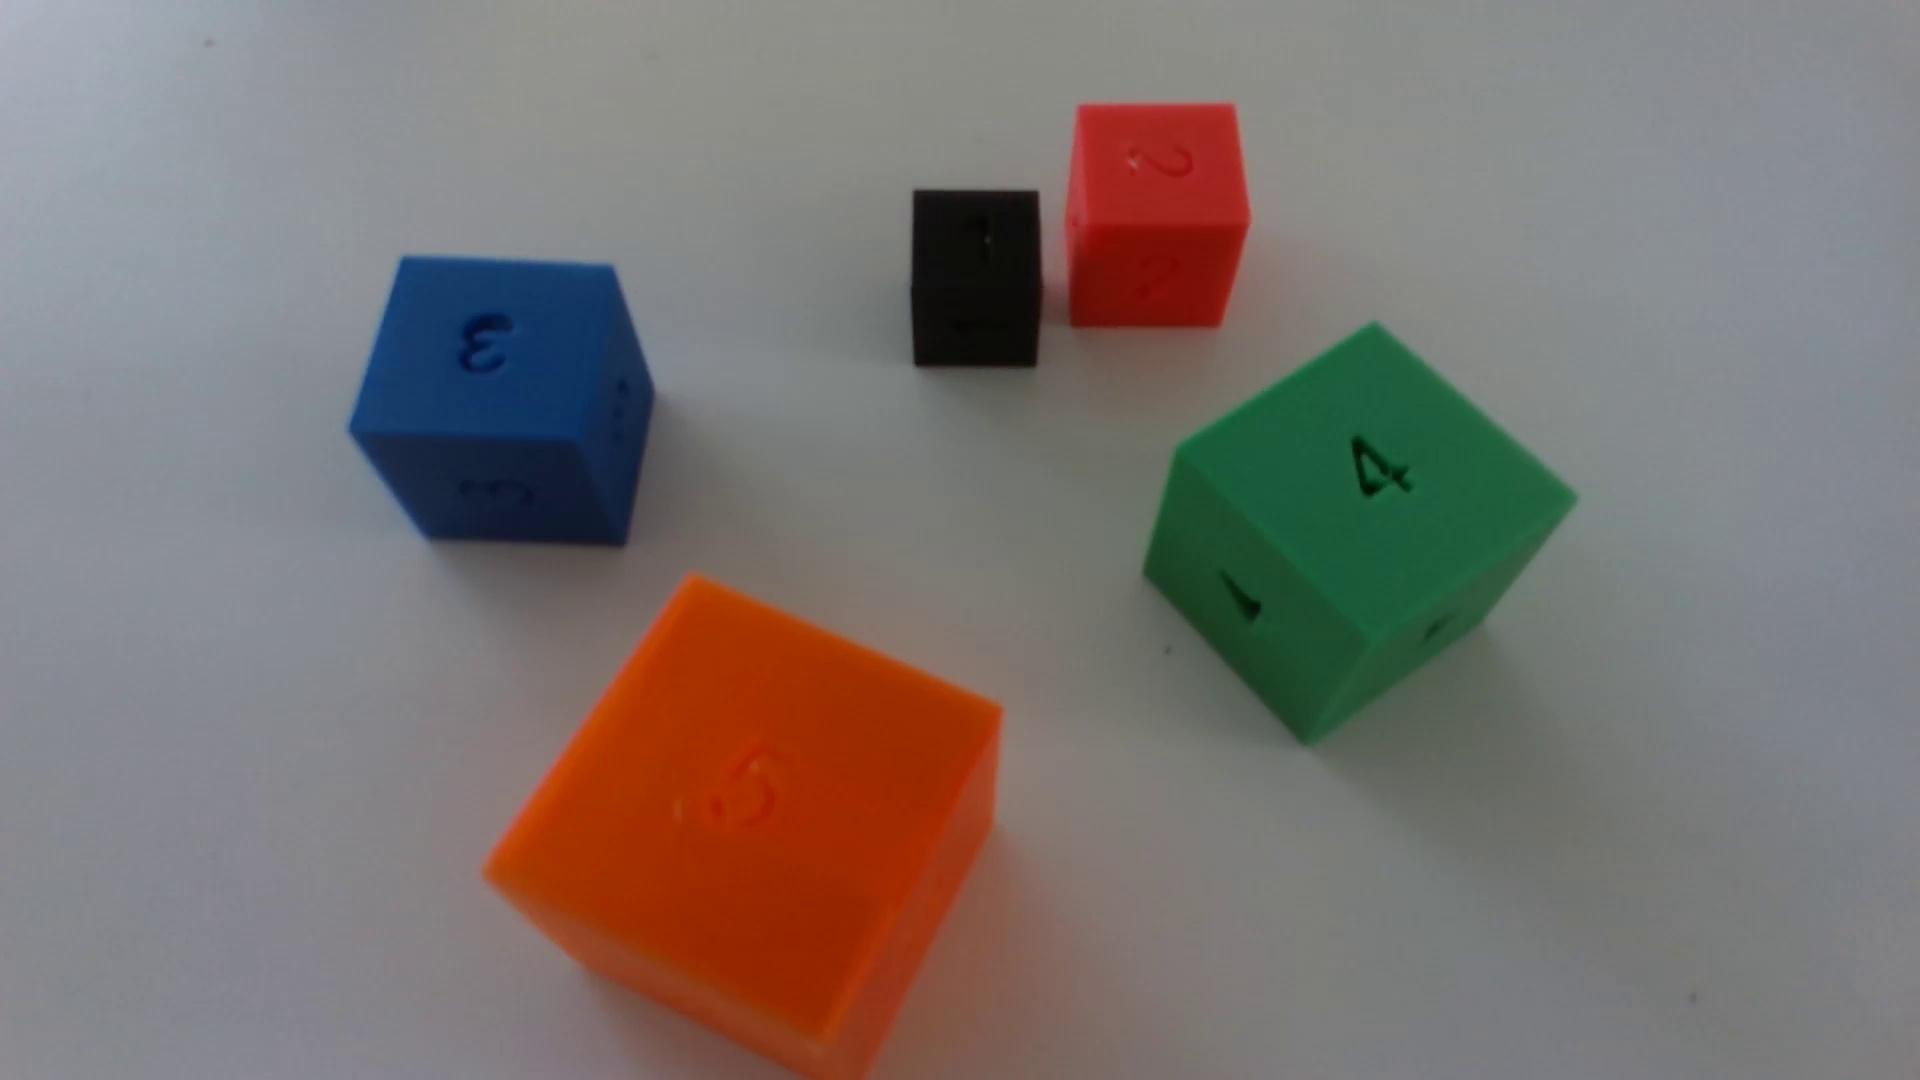black: (909, 190, 1043, 371)
blue: (349, 258, 655, 549)
green: (1143, 326, 1575, 744)
orange: (485, 579, 1002, 1080)
red: (1064, 104, 1251, 330)
